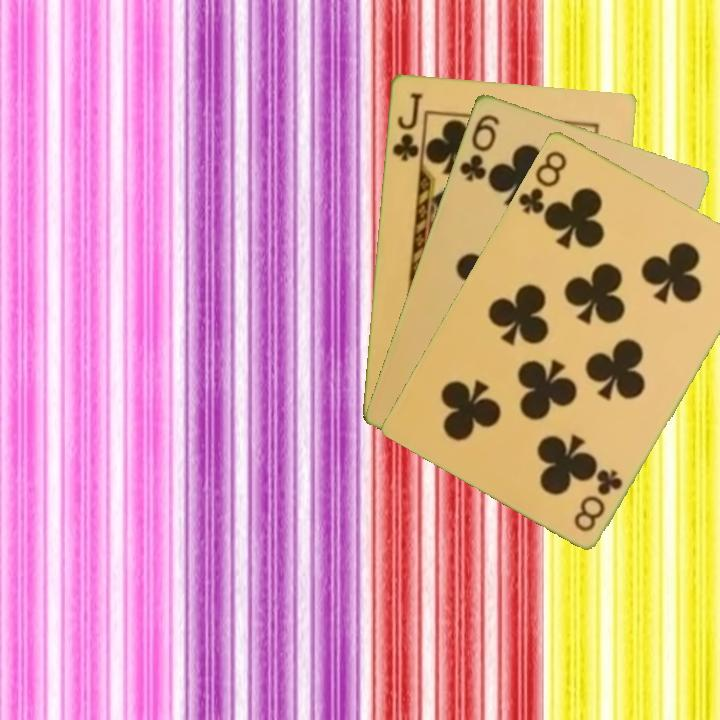6c: (456, 110, 502, 184)
8c: (514, 146, 570, 219), (569, 465, 626, 534)
Jc: (388, 88, 425, 164)
